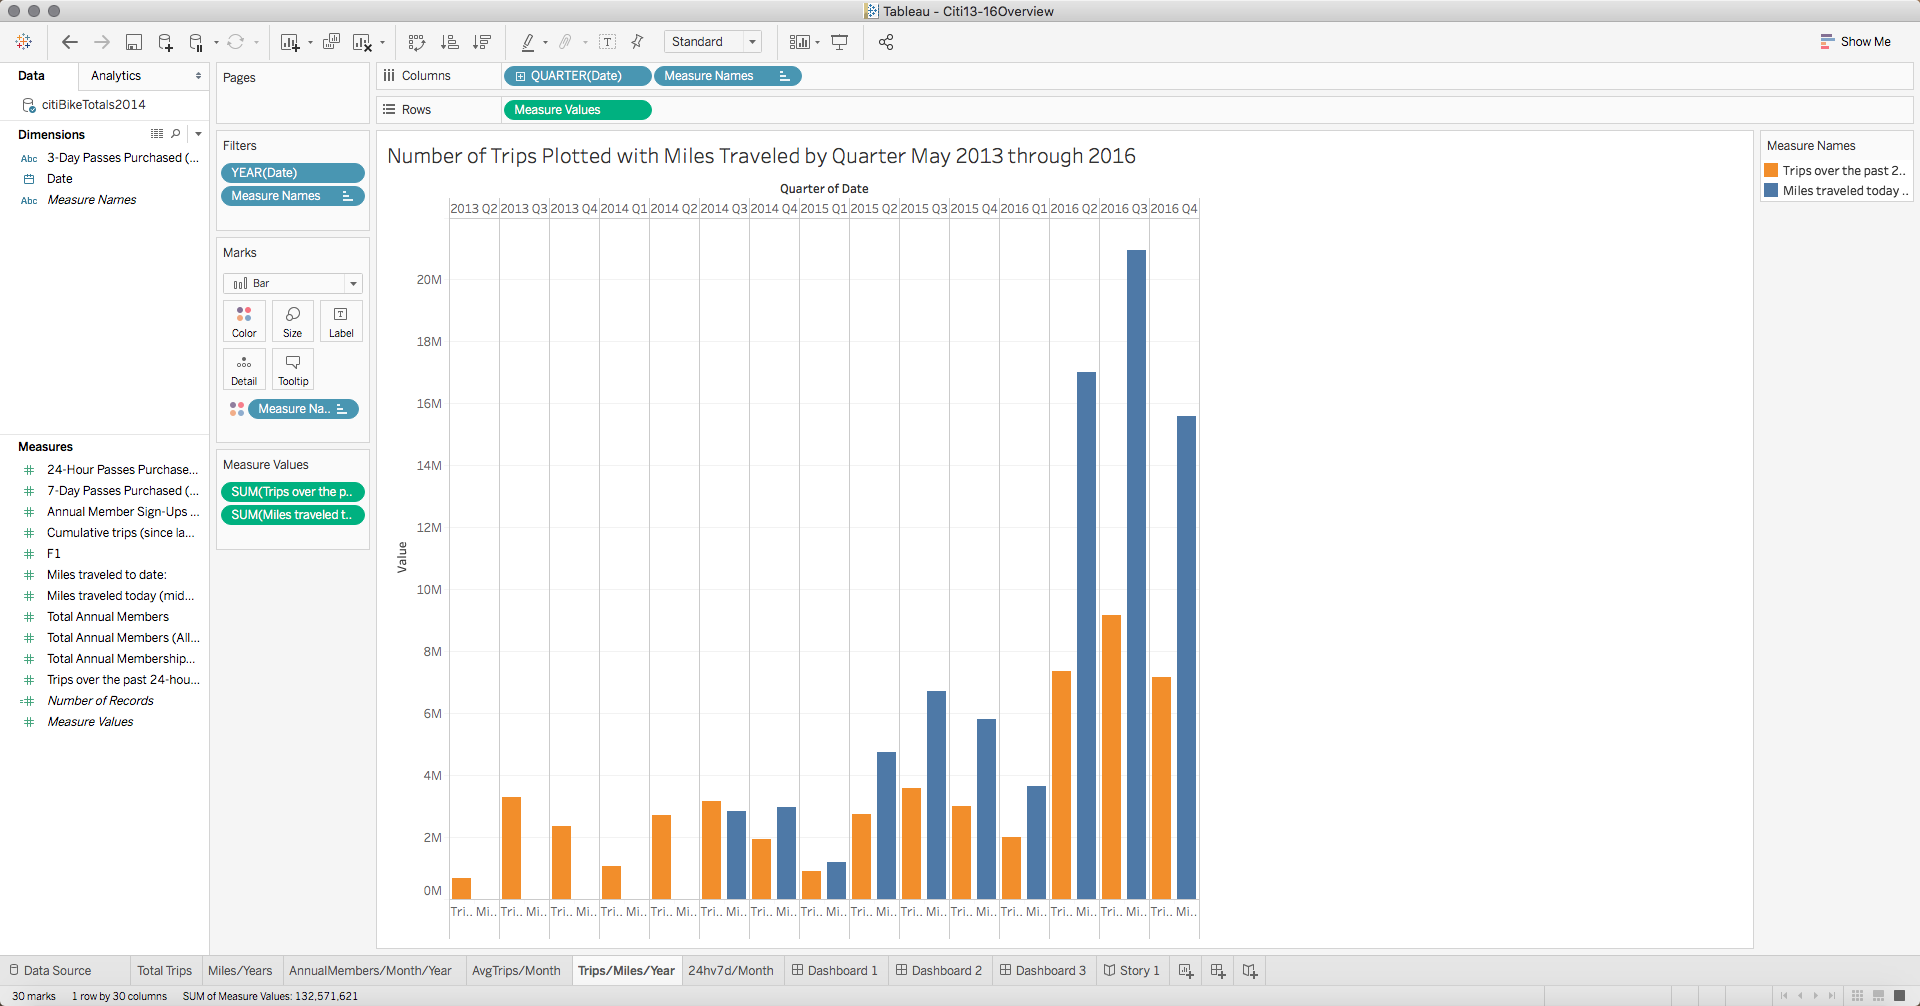

This screenshot's page, from the dashboard's own definition file:
{"tool":"tableau","page":{"name":"Dashboard 2","canvas":[1000,800],"ordinal":1},"visuals":[{"type":"worksheet","title":"AvgTrips/Month","mark":"Automatic","rows":["59pm)"],"cols":["Date"],"box":[8,8,984,392]},{"type":"worksheet","title":"Trips/Miles/Year","mark":"Bar","cols":["Date"],"box":[8,400,984,360]},{"type":"legend","title":"Trips/Miles/Year","param":"[federated.0h27gye1qyo4i51185m8p0l1csyk].[:Measure Names]","box":[8,760,984,32]}]}

Visuals, with their boxes on the page's 1000x800 design canvas (x1, y1, x2, y2). These are canvas units, not pixel positions in the 1920x1006 screenshot, which may show the page scaled, cropped or inside an application window:
"AvgTrips/Month" worksheet: rect(8, 8, 992, 400)
"Trips/Miles/Year" worksheet (Bar marks): rect(8, 400, 992, 760)
"Trips/Miles/Year" legend: rect(8, 760, 992, 792)
